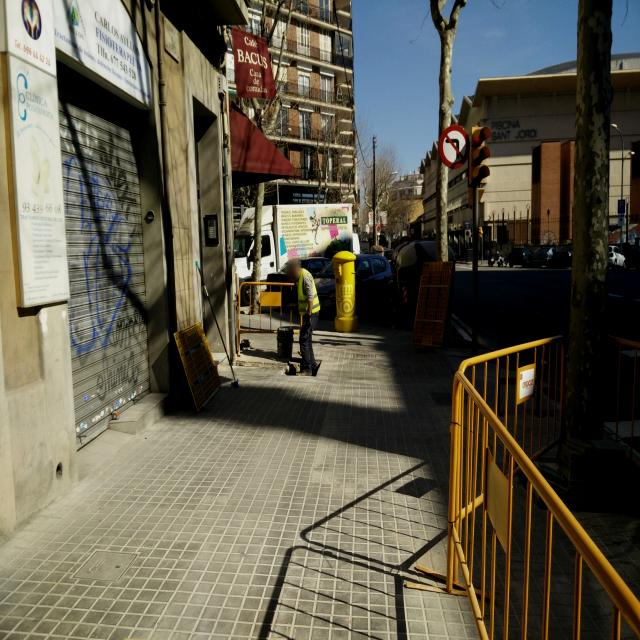car: (311, 254, 397, 315), (548, 240, 573, 268), (530, 243, 558, 265), (507, 246, 532, 266), (608, 244, 626, 268), (624, 244, 640, 270)
